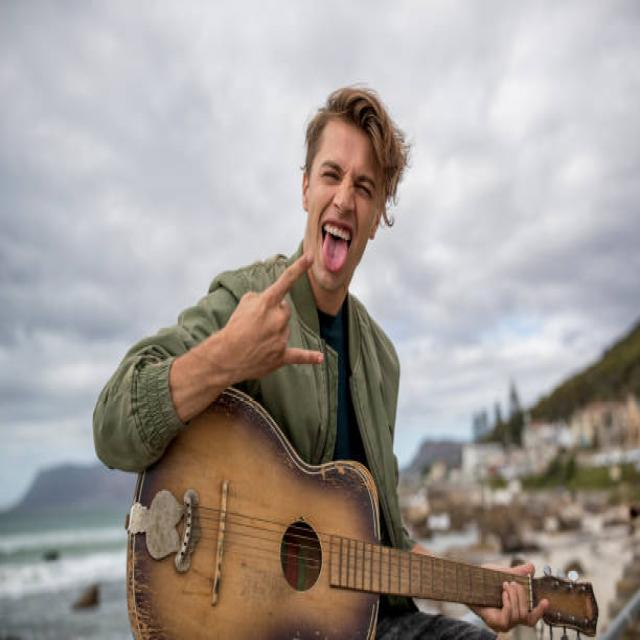tongue: (320, 231, 351, 273)
